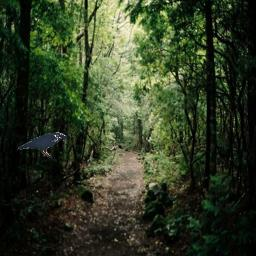Crow: (17, 132, 67, 158)
